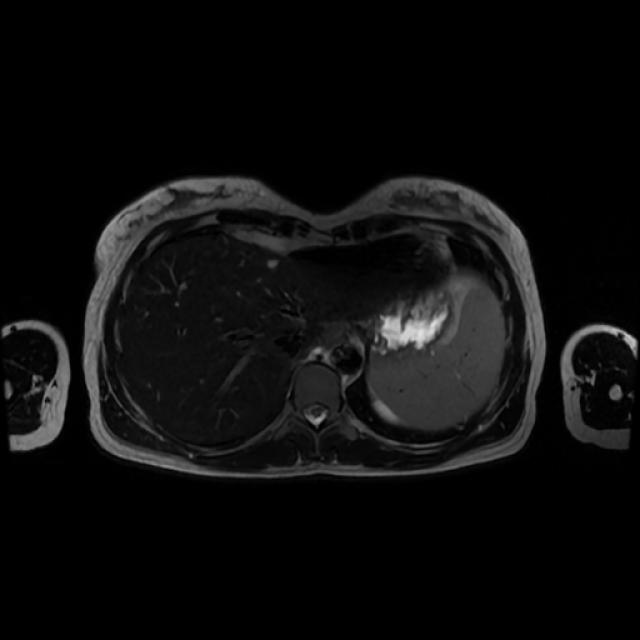sol: (377, 400, 400, 424)
